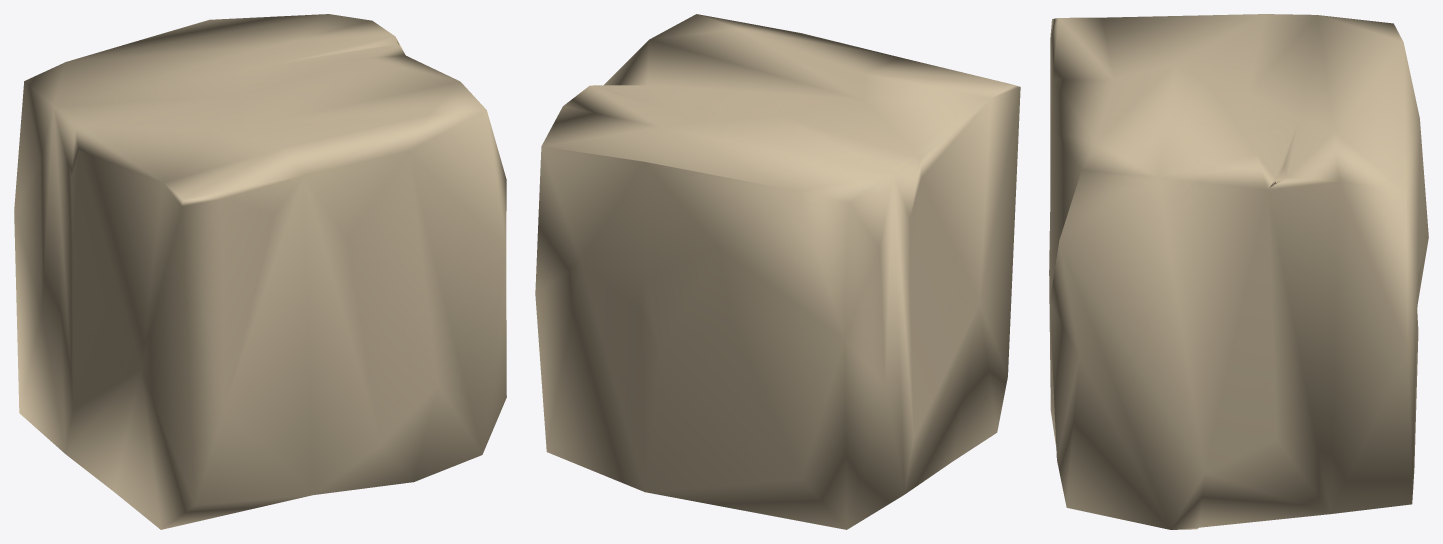
3 views of the same model, side by side, from view 1: azimuth 30°, elevation 25°; view 2: azimuth 150°, elevation 25°; view 3: azimuth 270°, elevation 25° (orthographic). The views are drawn at different scales.
Parts seen in each view (by area): view 1: tripo_node_83e1c002-5d1c-485b-9a22-c9d6bf5afdf9; view 2: tripo_node_83e1c002-5d1c-485b-9a22-c9d6bf5afdf9; view 3: tripo_node_83e1c002-5d1c-485b-9a22-c9d6bf5afdf9.
Part boxes in pixels (x1,y1,x2,y2): tripo_node_83e1c002-5d1c-485b-9a22-c9d6bf5afdf9: (14,14,506,529); tripo_node_83e1c002-5d1c-485b-9a22-c9d6bf5afdf9: (535,14,1020,529); tripo_node_83e1c002-5d1c-485b-9a22-c9d6bf5afdf9: (1049,14,1428,529).
Bounding box in the file's own units: 0.9901 × 1 × 0.9542.
1 material, 1 textured.
